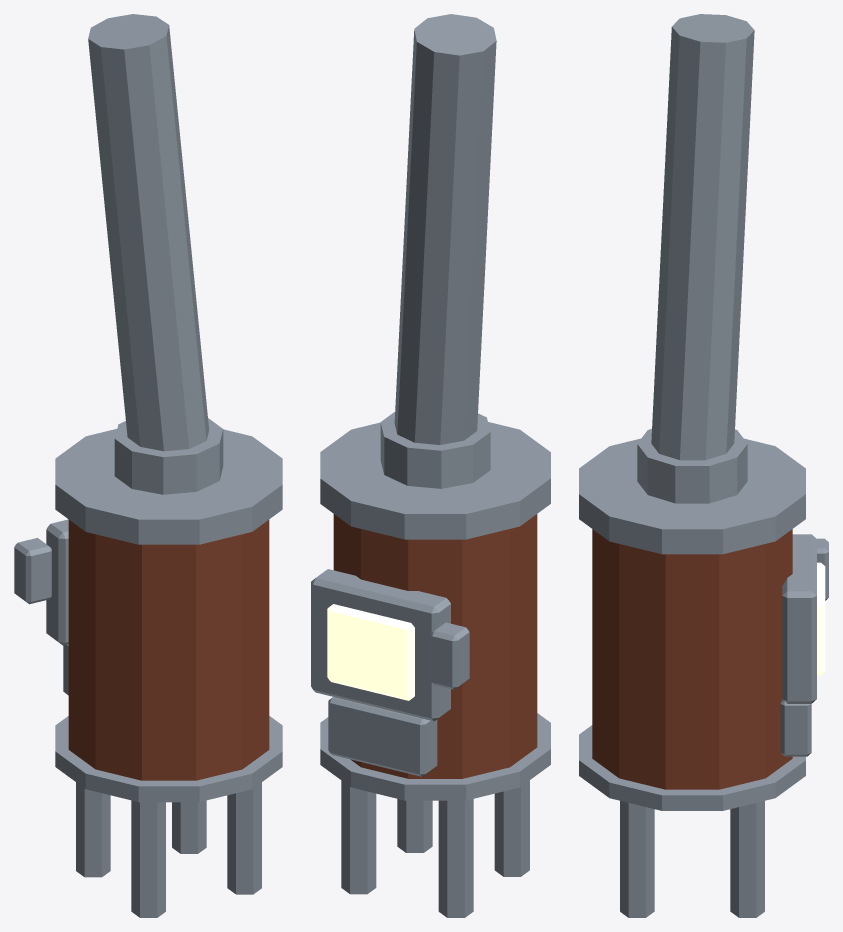
Rendered from Prop_Stove.fbx.
The picture shows the model from 3 angles, left to right: view 1: azimuth 30°, elevation 25°; view 2: azimuth 150°, elevation 25°; view 3: azimuth 270°, elevation 25°; orthographic projection.
Parts seen in each view (by area): view 1: Prop_Stove; view 2: Prop_Stove; view 3: Prop_Stove.
Part boxes in pixels (x1,y1,x2,y2): Prop_Stove: [14, 14, 282, 917]; Prop_Stove: [311, 14, 550, 917]; Prop_Stove: [579, 14, 828, 917].
Size of the model in its own units: 65.68 by 271 by 72.34.
